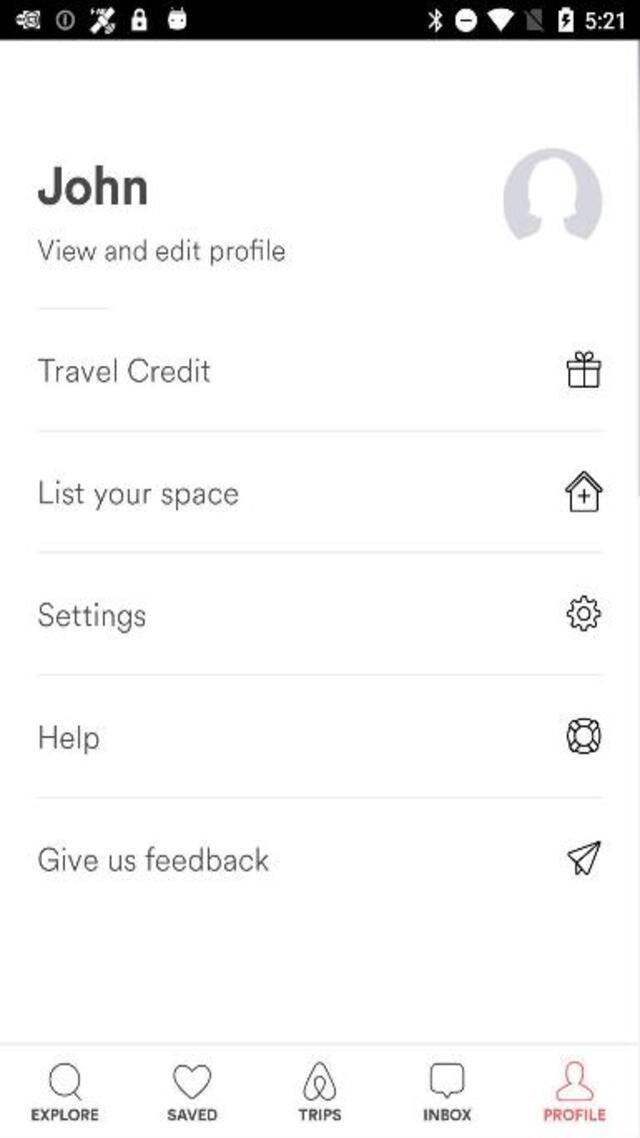Icon: (502, 148, 602, 243), (556, 1060, 594, 1102), (564, 470, 602, 512), (174, 1063, 212, 1099), (566, 838, 601, 876), (566, 595, 601, 632), (302, 1062, 336, 1100), (48, 1062, 82, 1100), (566, 718, 601, 754), (566, 350, 601, 386), (430, 1061, 464, 1098)
Text: (34, 237, 287, 266), (36, 845, 271, 876), (36, 478, 240, 512), (36, 355, 214, 385), (35, 164, 153, 208), (37, 600, 149, 635), (35, 723, 101, 758), (544, 1108, 606, 1122), (31, 1107, 99, 1119), (168, 1108, 218, 1122), (426, 1109, 472, 1121), (298, 1107, 340, 1119)
